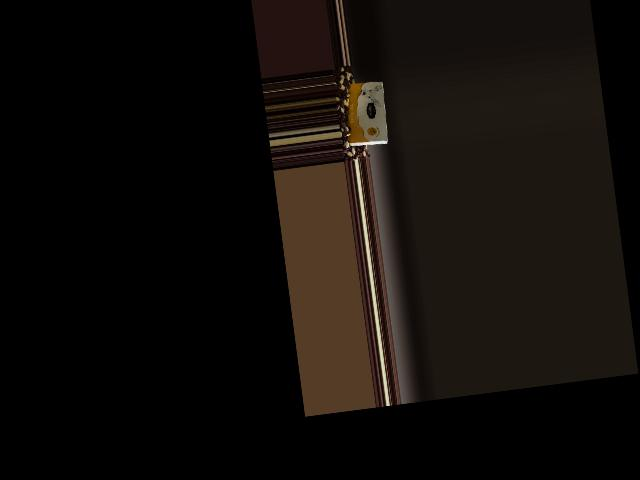chocolate: (339, 75, 393, 151)
